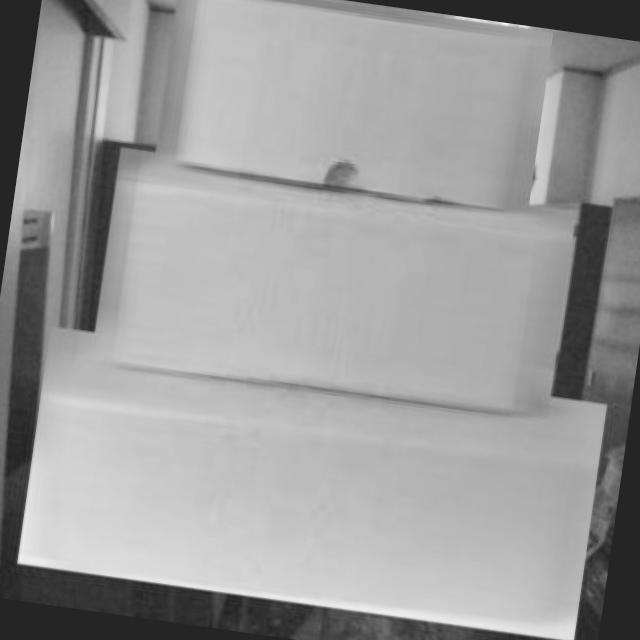box: (8, 320, 617, 640), (84, 144, 584, 434), (146, 0, 560, 227)
